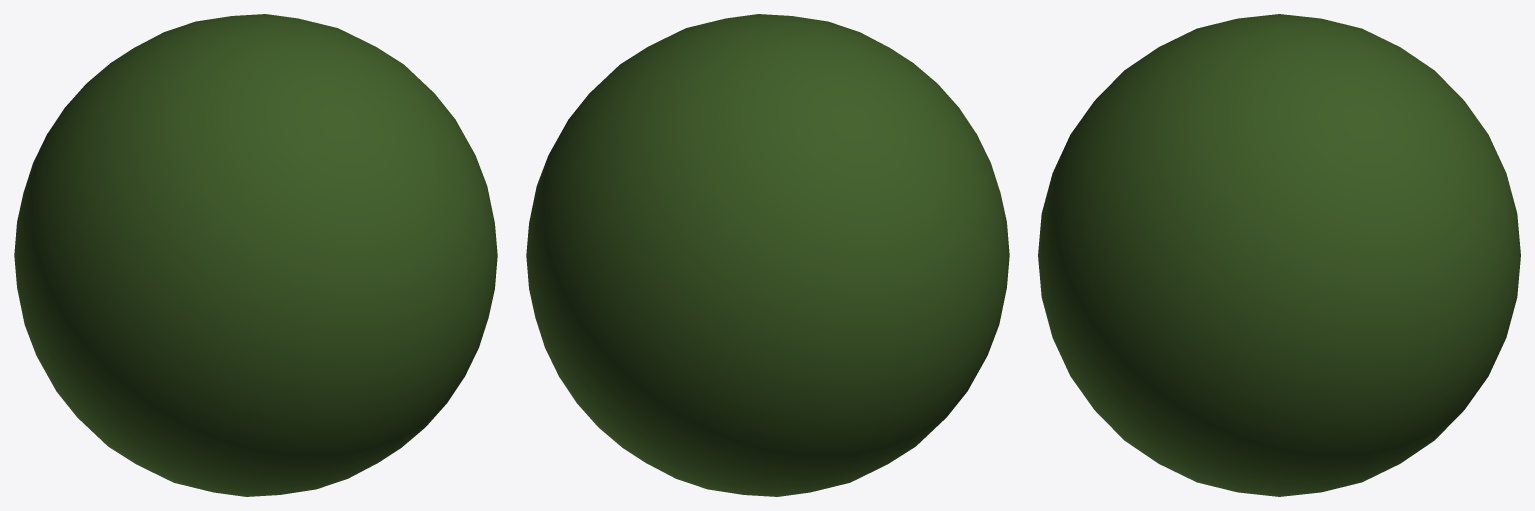
3 views of the same model, side by side, from view 1: azimuth 30°, elevation 25°; view 2: azimuth 150°, elevation 25°; view 3: azimuth 270°, elevation 25° (orthographic).
Parts seen in each view (by area): view 1: Speech Bubble; view 2: Speech Bubble; view 3: Speech Bubble.
Part boxes in pixels (x1,y1,x2,y2): Speech Bubble: (14,14,497,496); Speech Bubble: (526,14,1009,496); Speech Bubble: (1038,14,1520,496).
Bounding box in the file's own units: 0.1775 × 0.1771 × 0.1778.
